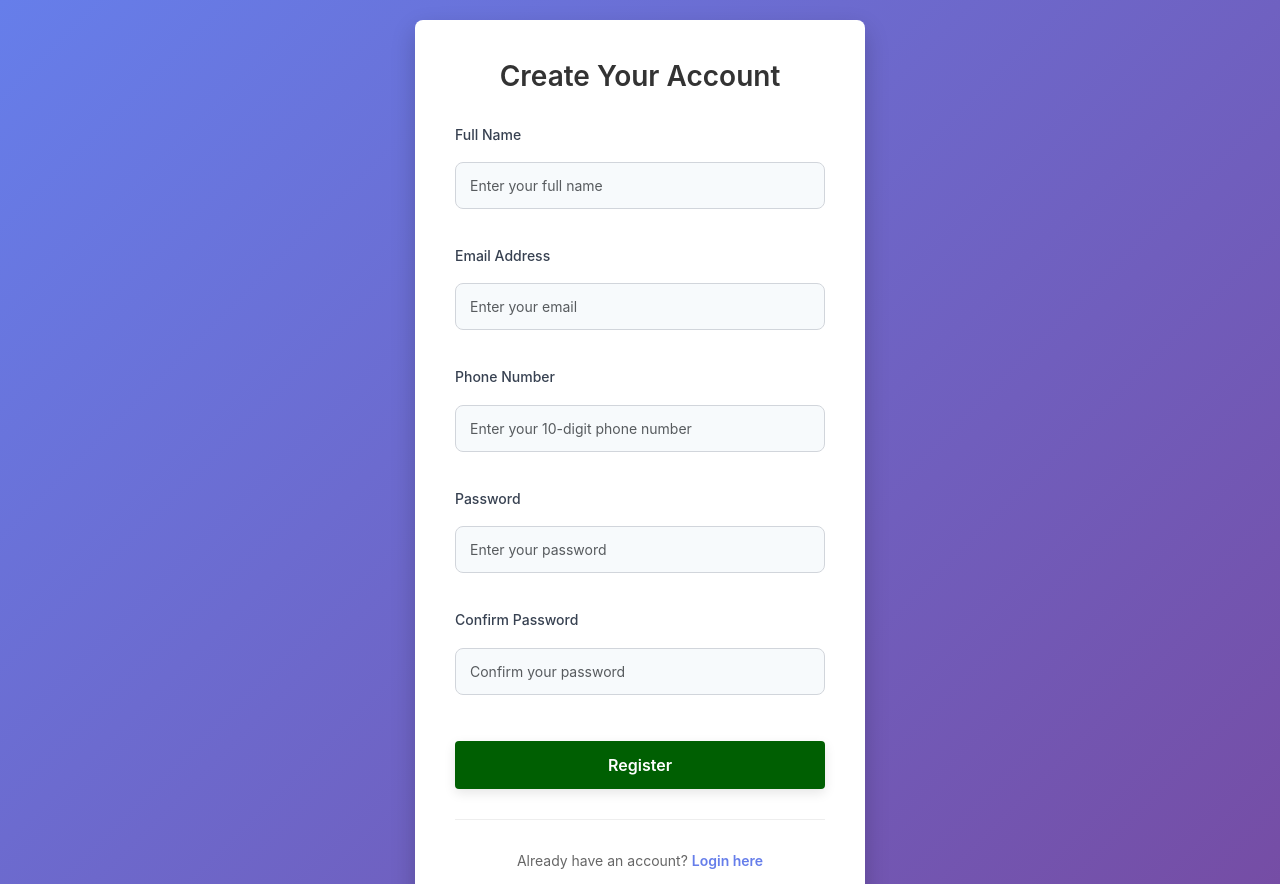
Test case: Register Component › validates name minimum length
Type "A" into the field labelled "Full Name" at (640,186), box [455,162,825,209]
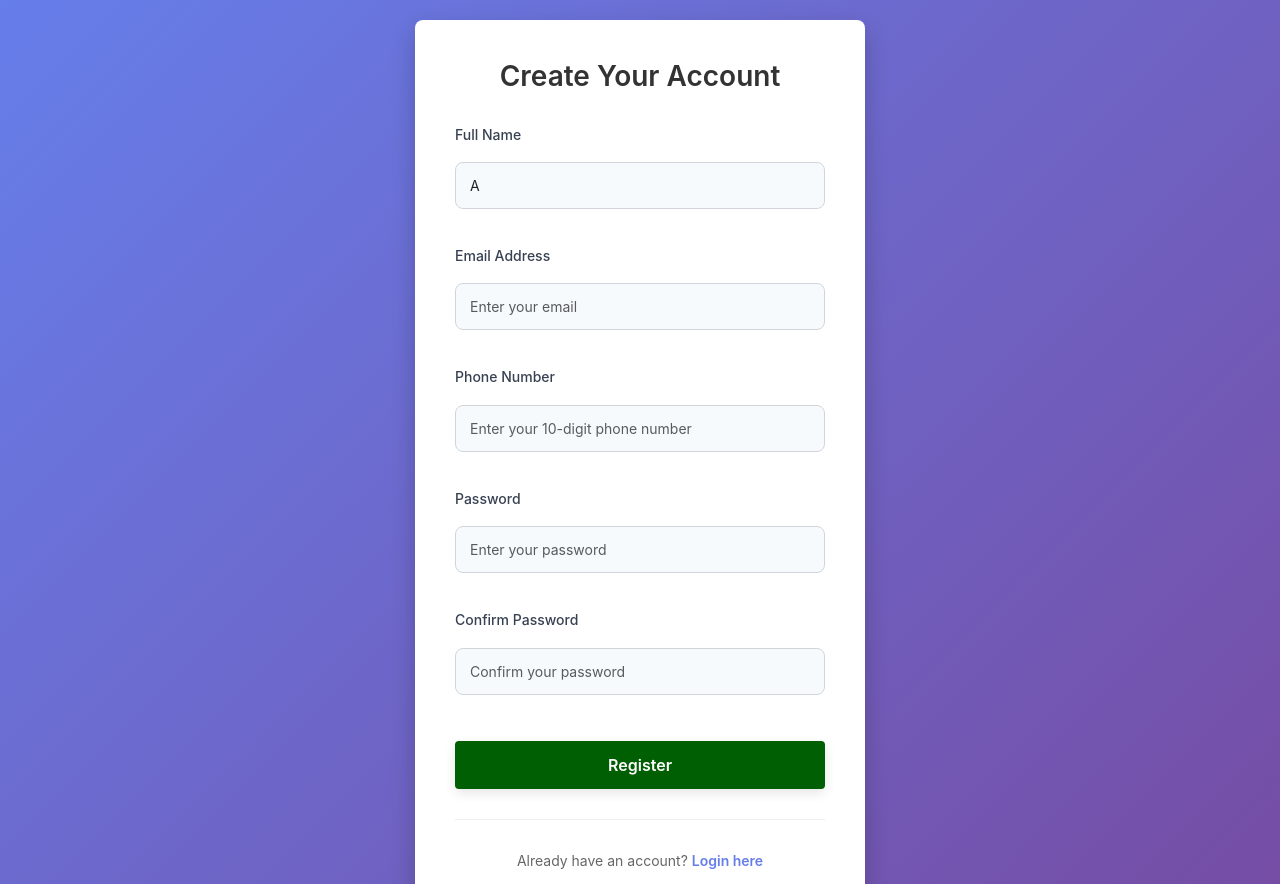
Click the button "Register" at (640,764), box [455,740,825,788]
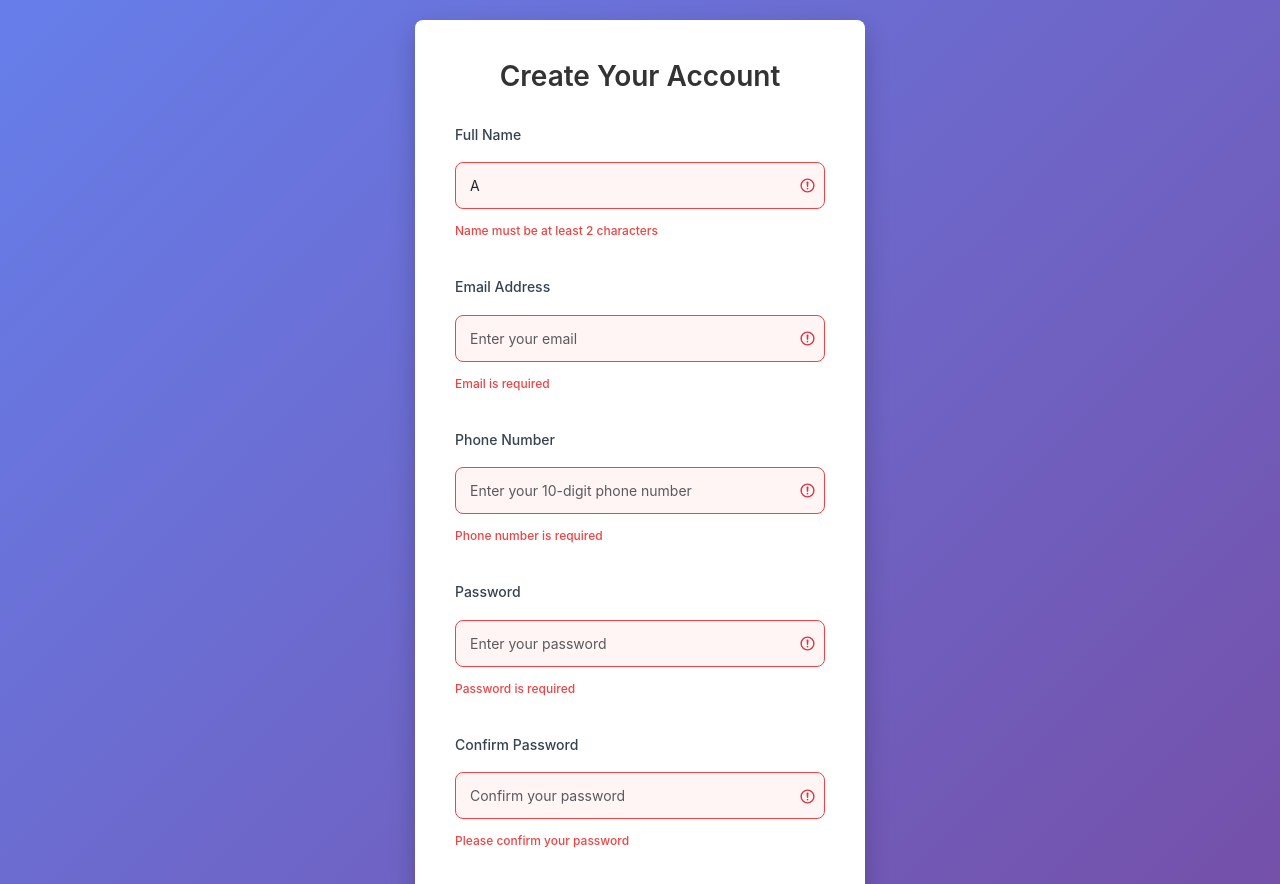
Expected: the text "Name must be at least 2 characters" is shown, [455,223,658,238]
